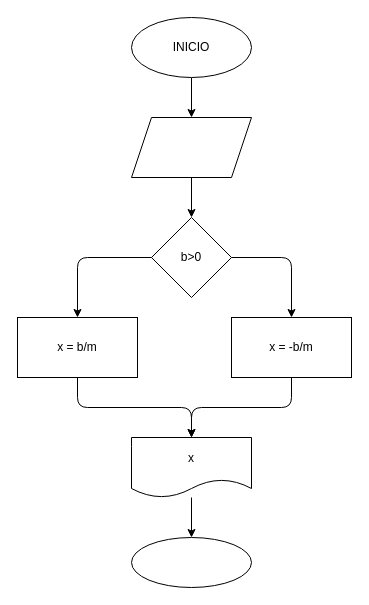
The diagram is 369 pixels wide and 605 high, and some of its shapes have lost their labels. The centre of each missing label's shape, as x and y in pixels:
FIN: [191,562]
m, b: [191,147]
